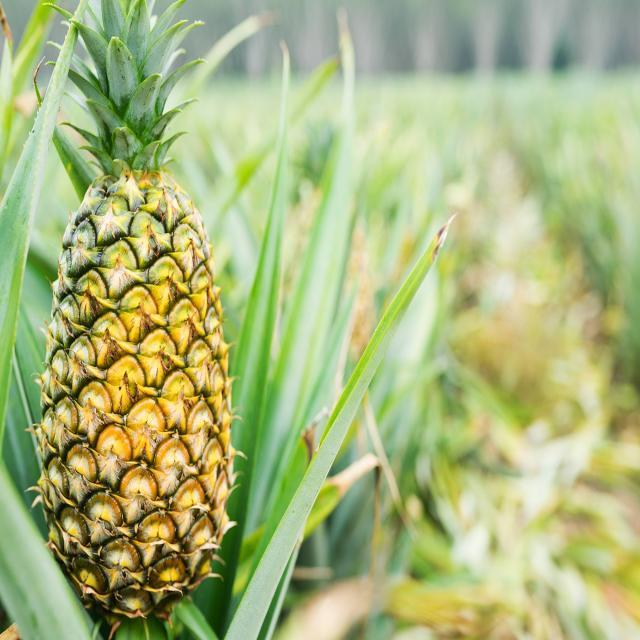PINEAPLE: (36, 5, 232, 619)
